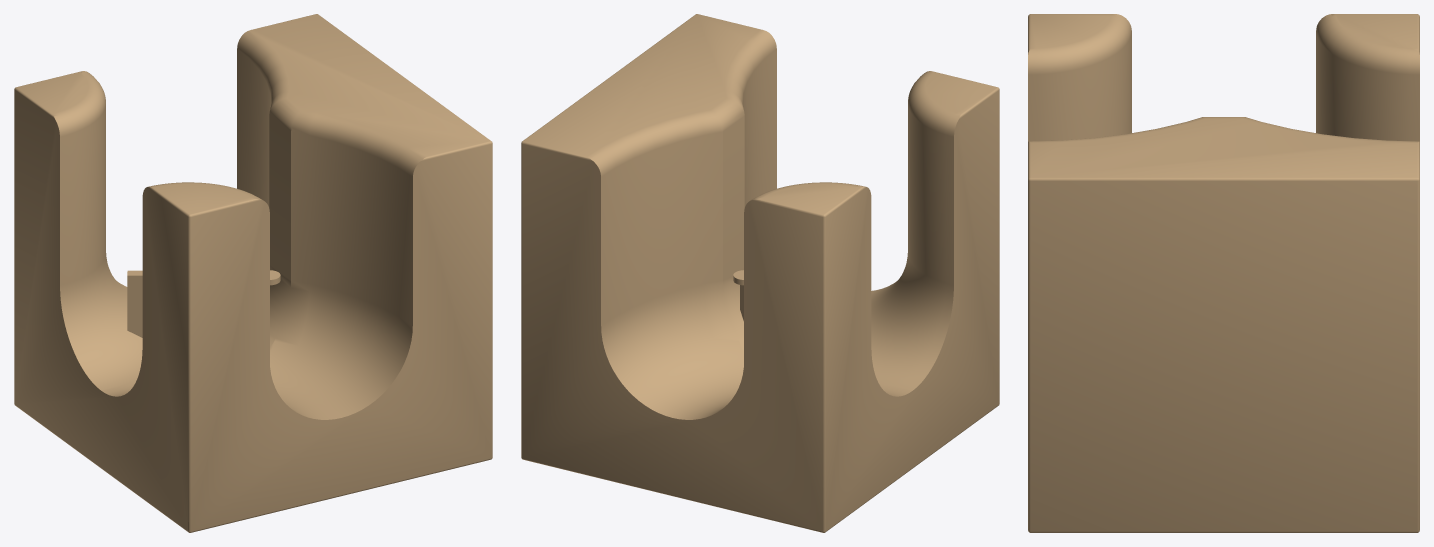
The model's file is mech_toggle_l1.glb.
3 renders of one model, left to right at view 1: azimuth 30°, elevation 25°; view 2: azimuth 150°, elevation 25°; view 3: azimuth 270°, elevation 25°, orthographic. The views are drawn at different scales.
Parts seen in each view (by area): view 1: mech_toggle_l1_lod0, anim_rocker_lod0; view 2: mech_toggle_l1_lod0; view 3: mech_toggle_l1_lod0.
Part boxes in pixels (x1,y1,x2,y2): mech_toggle_l1_lod0: (14, 14, 492, 532); anim_rocker_lod0: (127, 270, 280, 337); mech_toggle_l1_lod0: (521, 14, 999, 532); mech_toggle_l1_lod0: (1028, 14, 1419, 532).
Size of what is drawn, in the model's own units: 0.0596 by 0.0596 by 0.0596.
